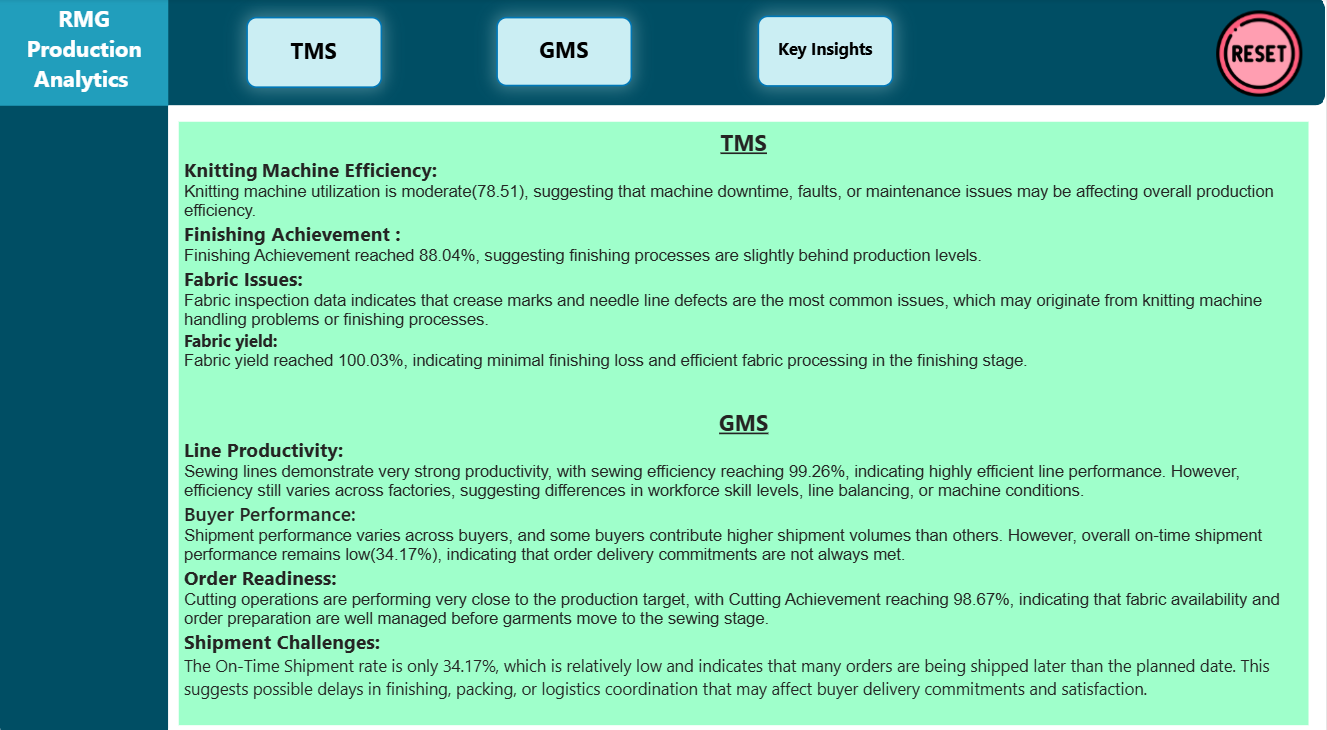

What the dashboard file says about the page in this screenshot:
{"tool":"powerbi","page":{"name":"Key Insights","canvas":[1280,720],"ordinal":2},"visuals":[{"type":"shape","box":[0,0,1280,103.7],"z":0},{"type":"shape","box":[0,0,162.6,720.2],"z":1000},{"type":"textbox","box":[0,0,162.6,103.9],"z":2000},{"type":"listSlicer","fields":{"Values":["dim_date.MonthName"]},"box":[447.5,581.2,162.5,138.8],"z":3000},{"type":"actionButton","box":[1161.8,0,118.2,107.4],"z":4000},{"type":"actionButton","title":"TMS","box":[237.7,18.1,131,68.8],"z":5000},{"type":"actionButton","title":"GMS","box":[479,18.1,131.5,67.6],"z":6000},{"type":"actionButton","box":[731.1,16.9,131.5,68.8],"z":7000},{"type":"textbox","box":[172.5,119.4,1090.6,582.7],"z":8000}]}

Visuals, with their boxes in screenshot pixels (x1, y1, x2, y2), scaled from the page's 1280x720 canvas onto the 1327x730 screenshot:
shape: (x1=0, y1=0, x2=1326, y2=105)
shape: (x1=0, y1=0, x2=169, y2=729)
textbox: (x1=0, y1=0, x2=169, y2=105)
listSlicer - dim_date.MonthName: (x1=464, y1=589, x2=632, y2=729)
actionButton: (x1=1204, y1=0, x2=1326, y2=109)
"TMS" actionButton: (x1=246, y1=18, x2=382, y2=88)
"GMS" actionButton: (x1=497, y1=18, x2=633, y2=87)
actionButton: (x1=758, y1=17, x2=894, y2=87)
textbox: (x1=179, y1=121, x2=1309, y2=712)
